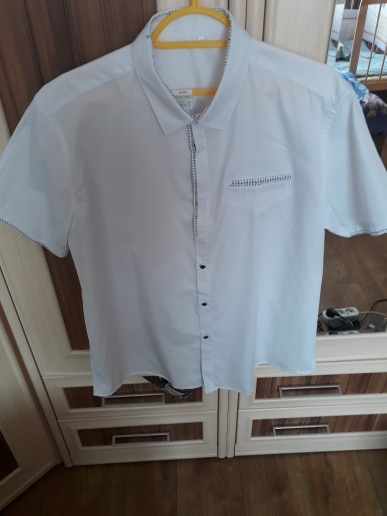shirts: (32, 19, 376, 389)
